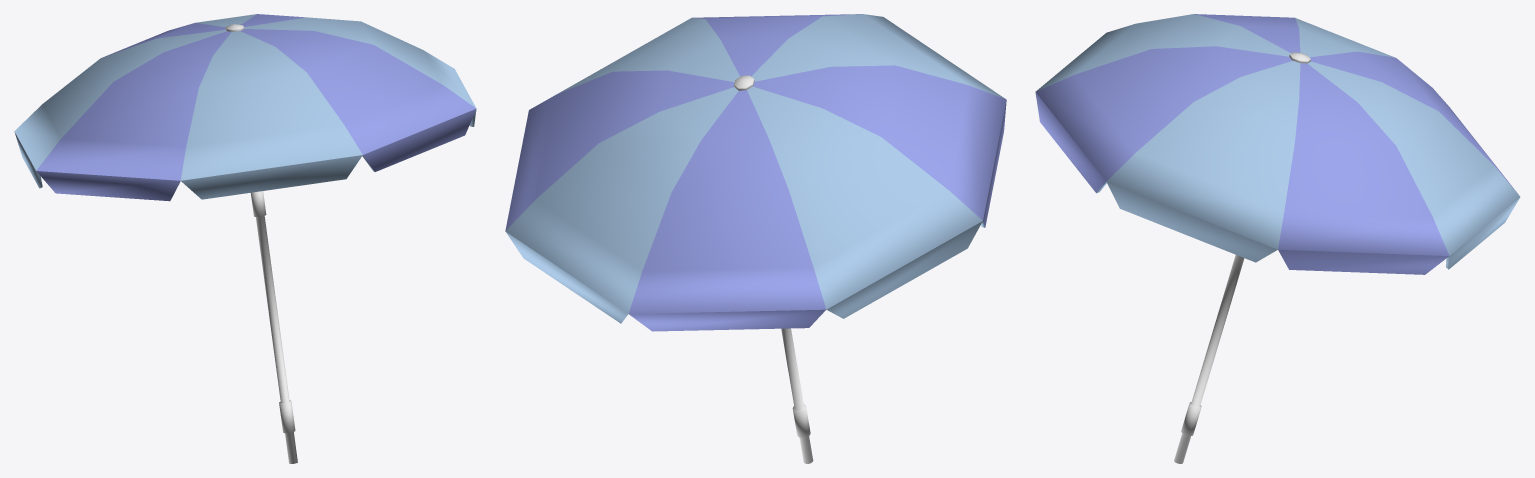
Rendered from Umbrella.fbx.
The picture shows the model from 3 angles, left to right: view 1: azimuth 30°, elevation 25°; view 2: azimuth 150°, elevation 25°; view 3: azimuth 270°, elevation 25°; orthographic projection. The views are drawn at different scales.
Visible parts, largest first — view 1: Umbrella, UmbrellaPole; view 2: Umbrella, UmbrellaPole; view 3: Umbrella, UmbrellaPole.
Boxes of the visible parts, <box> form: Umbrella: <box>14,14,476,201</box>; UmbrellaPole: <box>250,191,297,463</box>; Umbrella: <box>505,14,1006,331</box>; UmbrellaPole: <box>781,328,813,463</box>; Umbrella: <box>1035,14,1520,274</box>; UmbrellaPole: <box>1174,255,1244,463</box>.
Bounding box in the file's own units: 2540 × 2341 × 2471.
